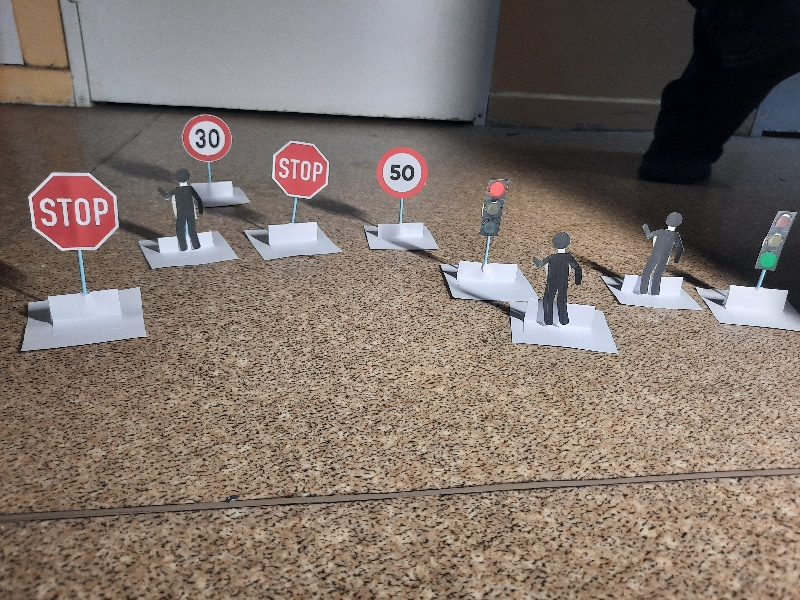Green: (757, 212, 795, 272)
Limit 30: (181, 114, 230, 157)
Limit 50: (378, 147, 427, 196)
Person: (533, 231, 580, 330), (640, 210, 687, 296), (159, 172, 207, 251)
Red: (482, 178, 503, 237)
Stop: (27, 173, 115, 251), (274, 141, 329, 196)
